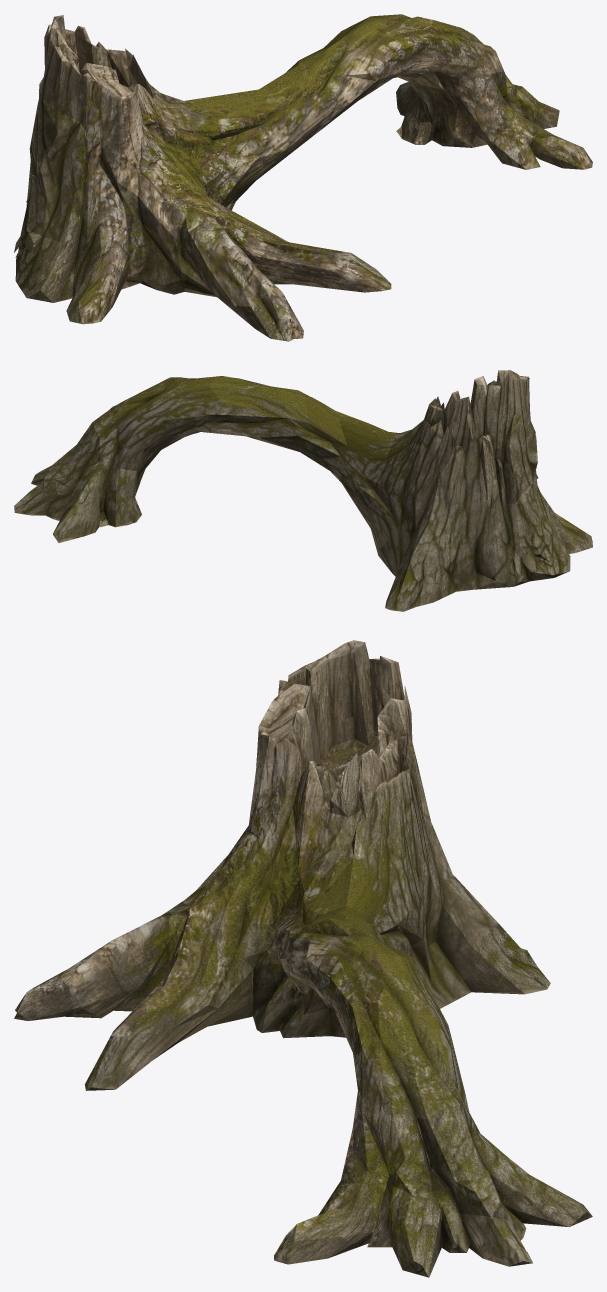
Rendered from fo_rootarch_stump.glb.
3 views of the same model, one above another, from view 1: azimuth 30°, elevation 25°; view 2: azimuth 150°, elevation 25°; view 3: azimuth 270°, elevation 25° (orthographic). The views are drawn at different scales.
Visible parts, largest first — view 1: output_unwrapped; view 2: output_unwrapped; view 3: output_unwrapped.
Part boxes in pixels (x1,y1,x2,y2): output_unwrapped: (14,14,592,341); output_unwrapped: (14,370,592,611); output_unwrapped: (14,640,592,1277).
Size of the model in its own units: 1.9 by 0.7585 by 1.29.
1 material, 1 textured.
